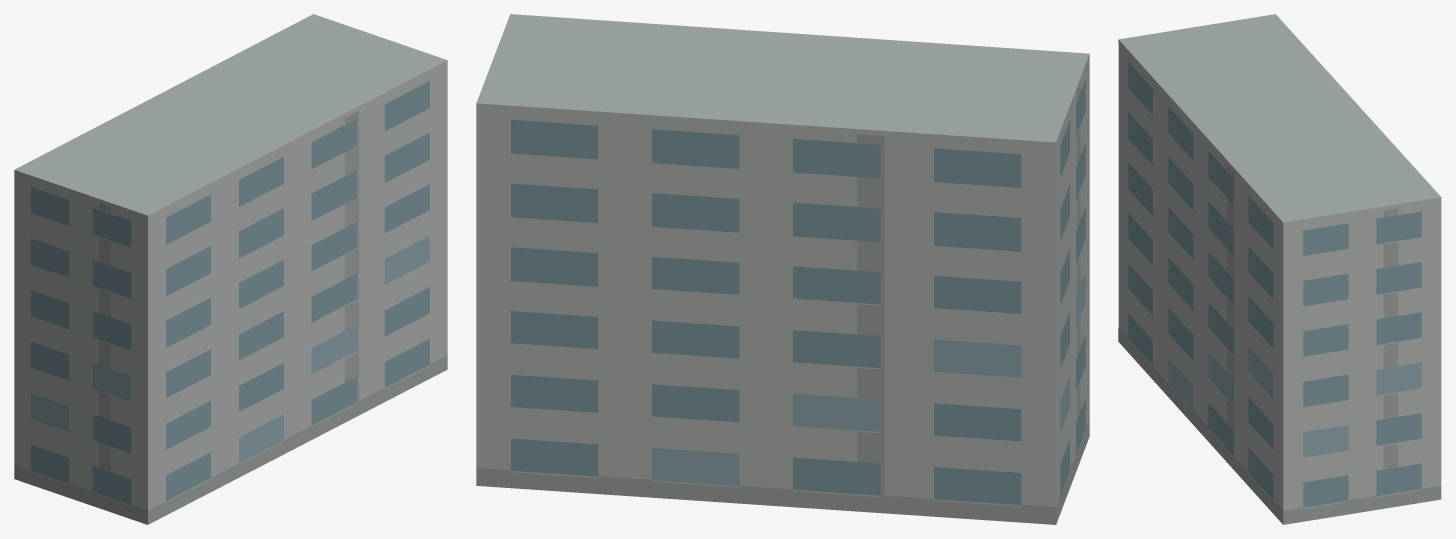
Rendered from survey-upis-32944352.glb.
3 views of the same model, side by side, from view 1: azimuth 30°, elevation 25°; view 2: azimuth 150°, elevation 25°; view 3: azimuth 270°, elevation 25° (orthographic). The views are drawn at different scales.
Parts seen in each view (by area): view 1: survey-upis-32944352.tmp; view 2: survey-upis-32944352.tmp; view 3: survey-upis-32944352.tmp.
Boxes of the visible parts, x1=… form: survey-upis-32944352.tmp: x1=14, y1=14, x2=447, y2=524; survey-upis-32944352.tmp: x1=476, y1=14, x2=1089, y2=524; survey-upis-32944352.tmp: x1=1118, y1=14, x2=1441, y2=524.
Size of the model in its own units: 27.09 by 18.3 by 17.73.
